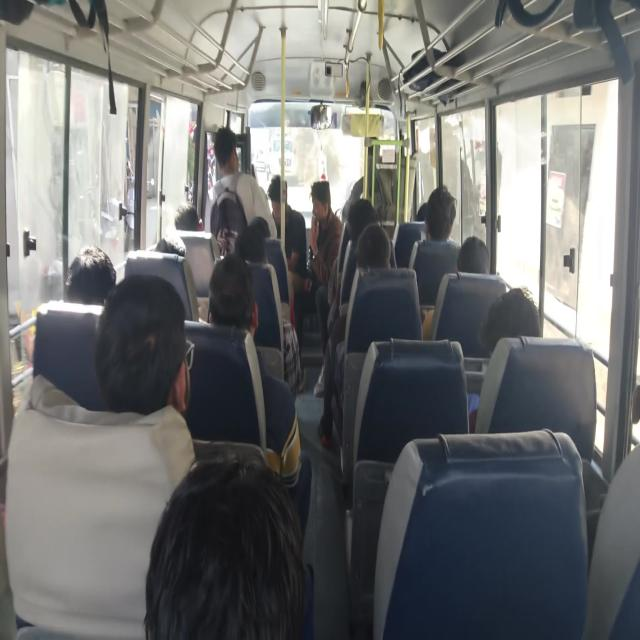person: (144, 453, 303, 639), (93, 271, 191, 418), (23, 245, 114, 402), (416, 225, 502, 352), (268, 175, 309, 345), (306, 178, 345, 352), (157, 217, 210, 320), (478, 286, 542, 356), (206, 249, 256, 336), (65, 246, 117, 309), (355, 220, 393, 272), (211, 128, 243, 187), (424, 185, 457, 242), (236, 216, 271, 264), (346, 197, 378, 245), (456, 236, 490, 276), (174, 203, 202, 231), (153, 236, 188, 256), (349, 177, 364, 206), (267, 176, 283, 202), (415, 202, 429, 222)
